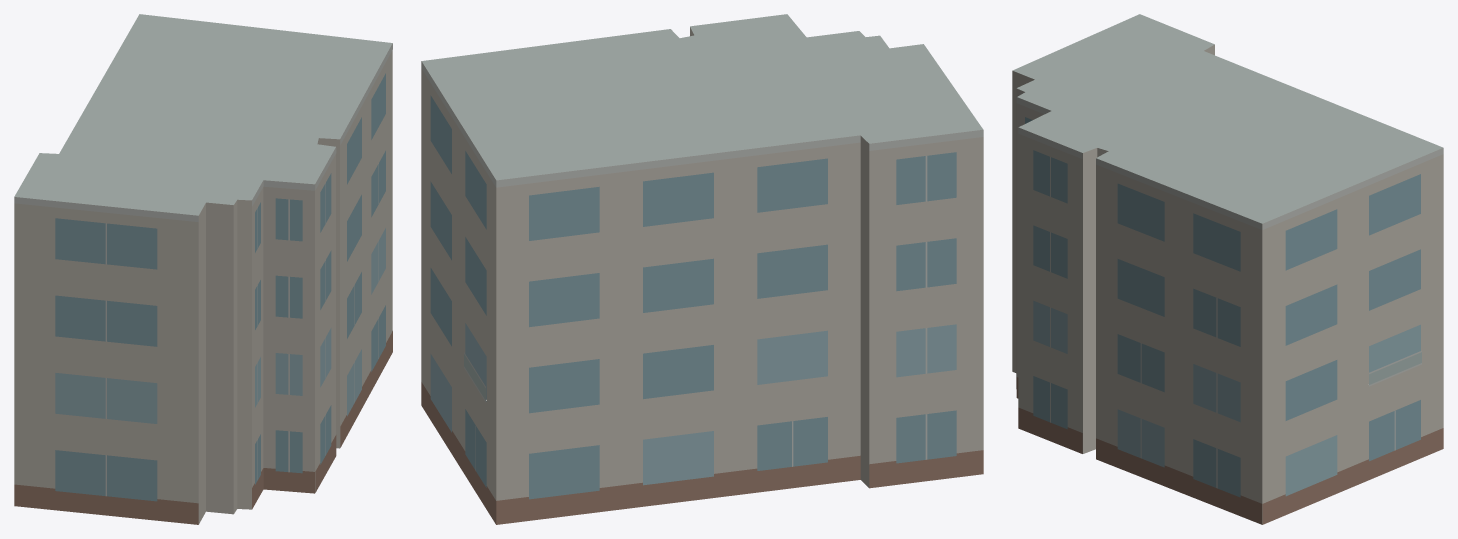
Rendered from survey-upis-32881487.glb.
3 views of the same model, side by side, from view 1: azimuth 30°, elevation 25°; view 2: azimuth 150°, elevation 25°; view 3: azimuth 270°, elevation 25° (orthographic). The views are drawn at different scales.
Visible parts, largest first — view 1: survey-upis-32881487.tmp; view 2: survey-upis-32881487.tmp; view 3: survey-upis-32881487.tmp.
Part boxes in pixels (x1=…): survey-upis-32881487.tmp: x1=14, y1=14, x2=392, y2=524; survey-upis-32881487.tmp: x1=421, y1=14, x2=983, y2=524; survey-upis-32881487.tmp: x1=1012, y1=14, x2=1443, y2=524.
Bounding box in the file's own units: 17.42 × 11.65 × 15.14.
